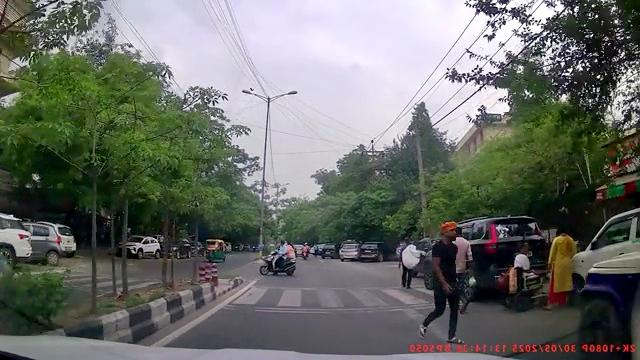motorcycle_without_helmet: (256, 239, 298, 278)
